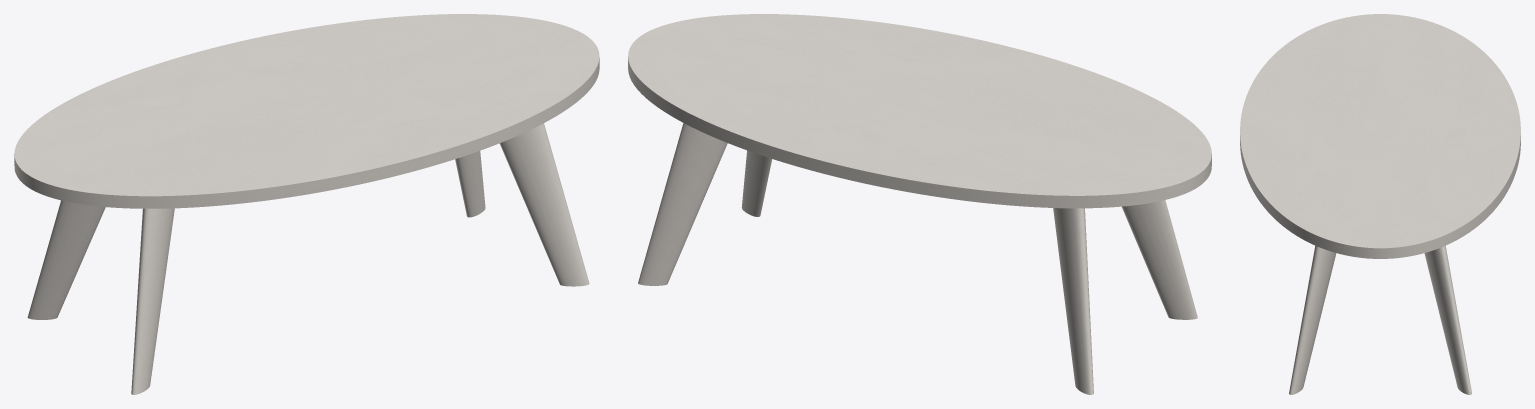
File: pearlwhite_ellips_standard_ferdinantwalnut.glb
3 views of the same model, side by side, from view 1: azimuth 30°, elevation 25°; view 2: azimuth 150°, elevation 25°; view 3: azimuth 270°, elevation 25° (orthographic). The views are drawn at different scales.
Parts seen in each view (by area): view 1: tabletop_ellips_standard.009, tableleg_ferdinandwalnut; view 2: tabletop_ellips_standard.009, tableleg_ferdinandwalnut; view 3: tabletop_ellips_standard.009, tableleg_ferdinandwalnut.
Part boxes in pixels (left/top/right/bottom): tabletop_ellips_standard.009: left=14, top=14, right=599, bottom=208; tableleg_ferdinandwalnut: left=27, top=123, right=589, bottom=394; tabletop_ellips_standard.009: left=628, top=14, right=1211, bottom=208; tableleg_ferdinandwalnut: left=638, top=123, right=1197, bottom=394; tabletop_ellips_standard.009: left=1240, top=14, right=1520, bottom=258; tableleg_ferdinandwalnut: left=1289, top=246, right=1471, bottom=394.
Size of the model in its own units: 7.5 by 2.51 by 3.8.
Materials: 1 (1 with a texture image).
